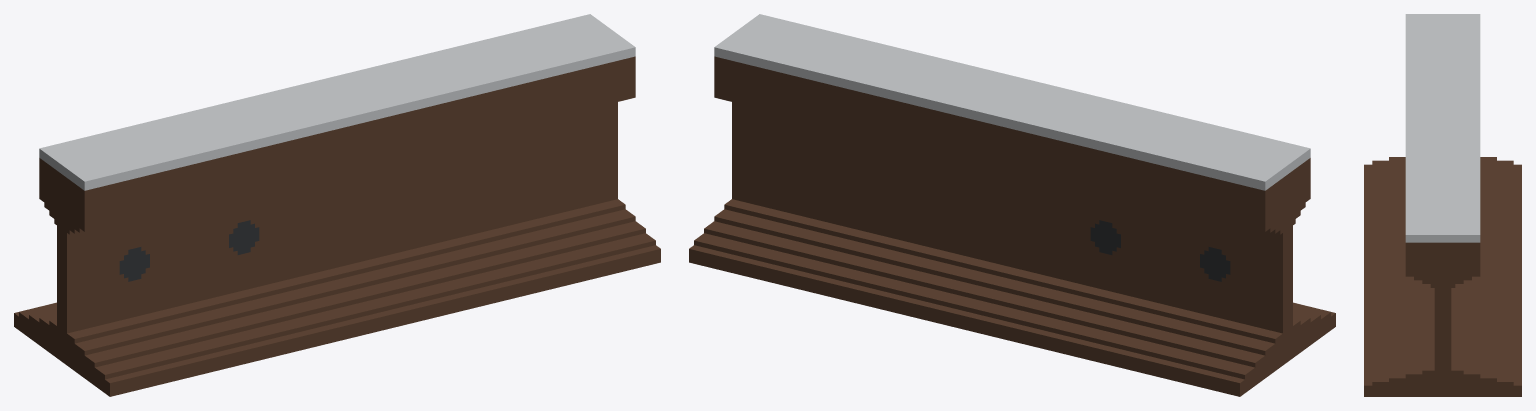
Rendered from railroad_track_item_half.glb.
3 views of the same model, side by side, from view 1: azimuth 30°, elevation 25°; view 2: azimuth 150°, elevation 25°; view 3: azimuth 270°, elevation 25° (orthographic). The views are drawn at different scales.
Visible parts, largest first — view 1: railroad_track_item_half:compound; view 2: railroad_track_item_half:compound; view 3: railroad_track_item_half:compound.
Boxes of the visible parts, x1,y1,x2,y2 form: railroad_track_item_half:compound: [14, 14, 660, 396]; railroad_track_item_half:compound: [689, 14, 1335, 396]; railroad_track_item_half:compound: [1364, 14, 1521, 396].
Size of the model in its own units: 0.504 by 0.172 by 0.152.
